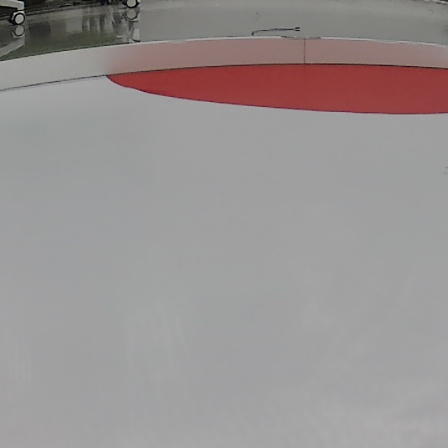red_base: (98, 62, 448, 114)
